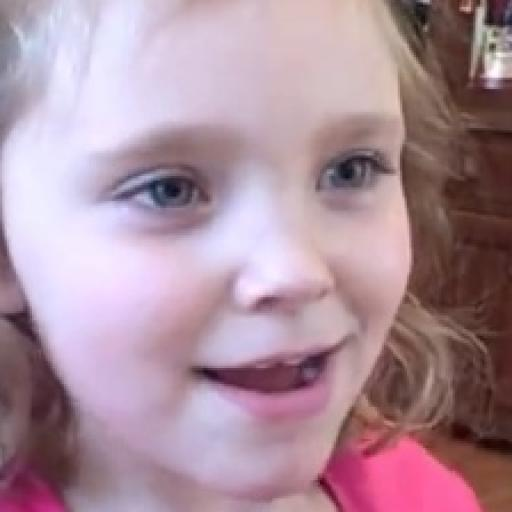Autism: (10, 6, 458, 498)
